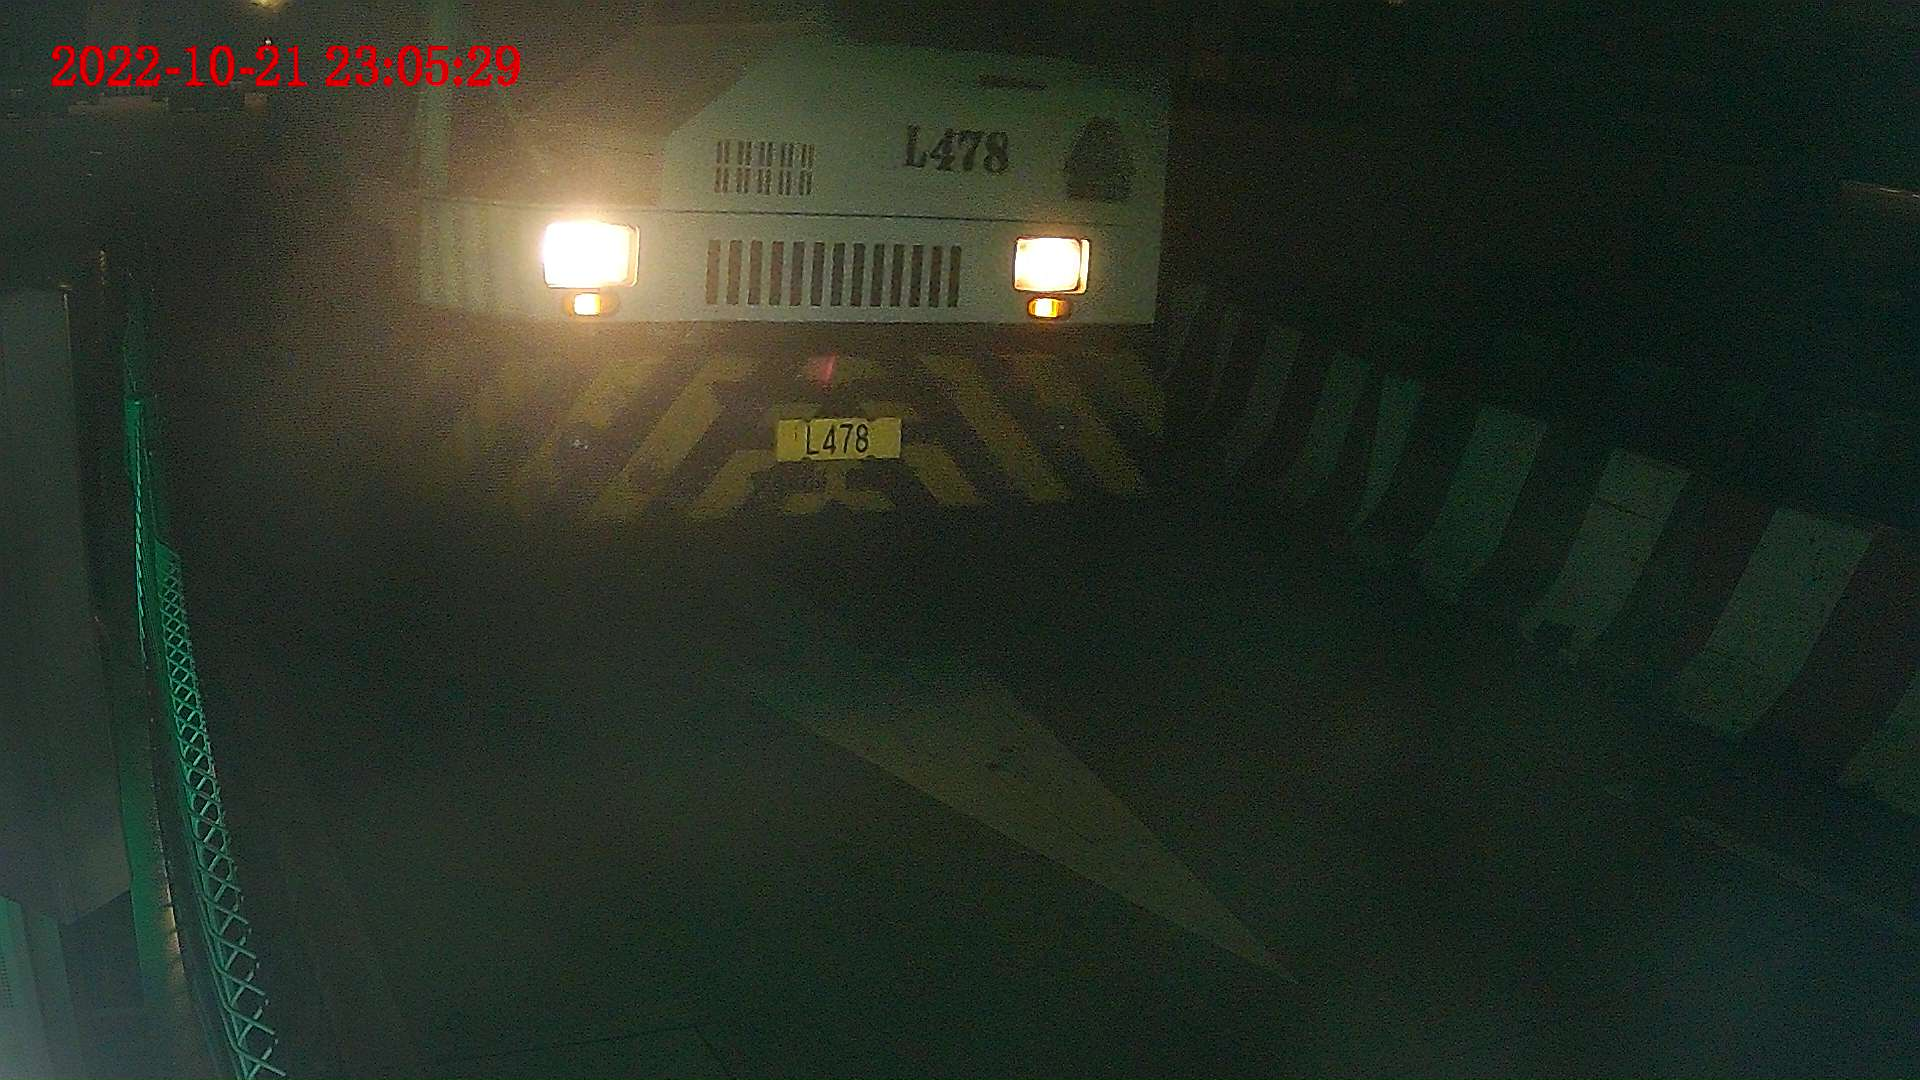head: (255, 1, 1166, 536)
plate: (776, 415, 909, 459)
